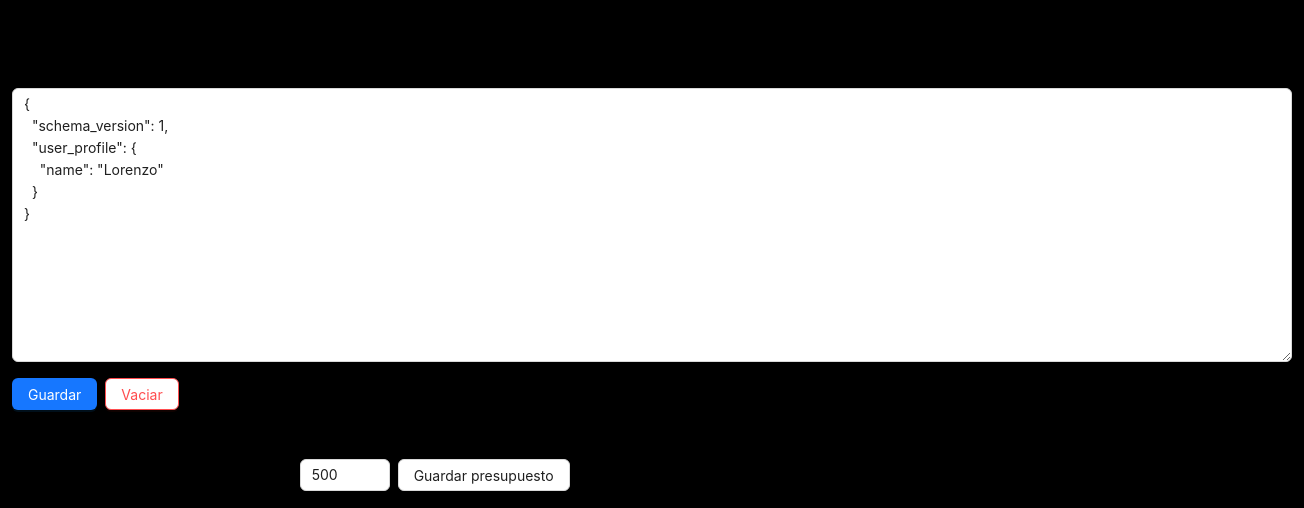
Test: PersistentMemoryPanel › vacia el estado tras confirmar
Click the button "Vaciar" at (142, 394), box 105,378 -> 179,410
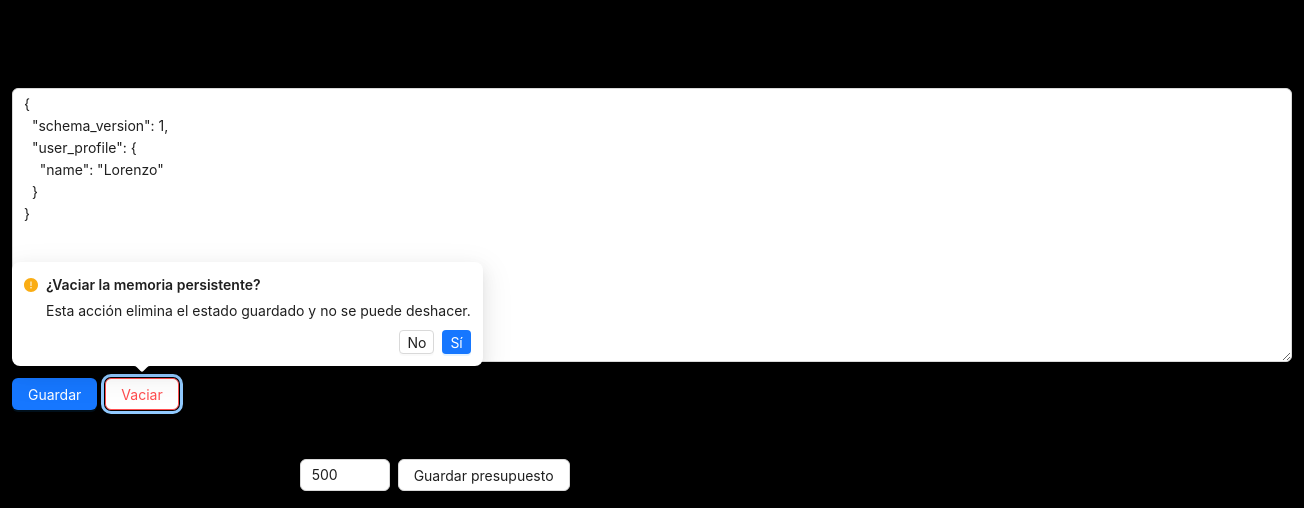
Click the button "Sí" at (457, 342), box 442,330 -> 471,354
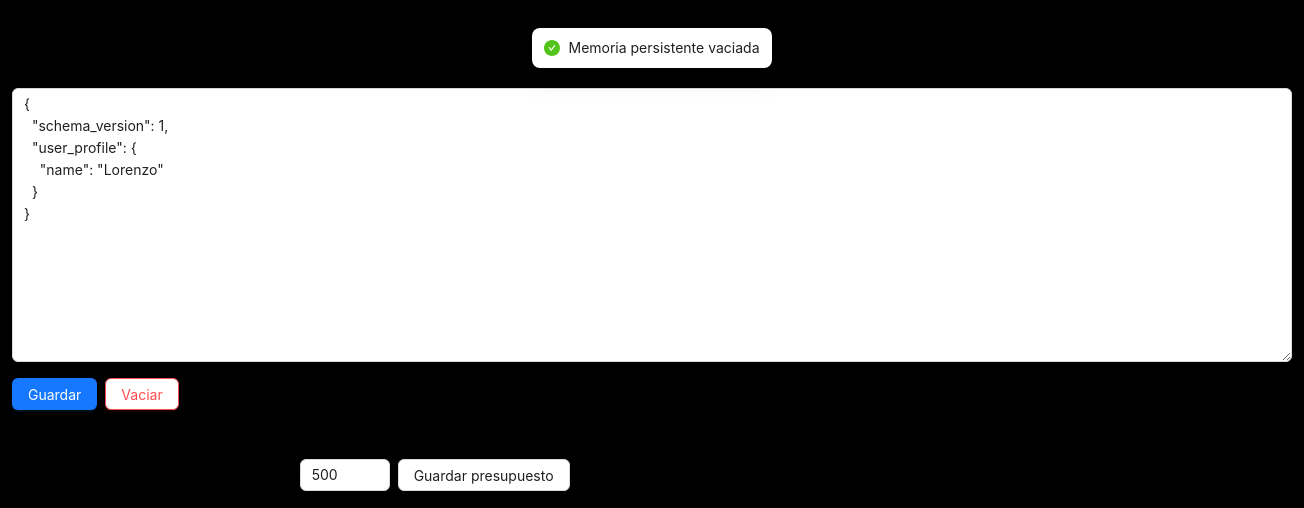
Expected: the text "Memoria persistente vaciada" is shown, 568,37 -> 760,59
